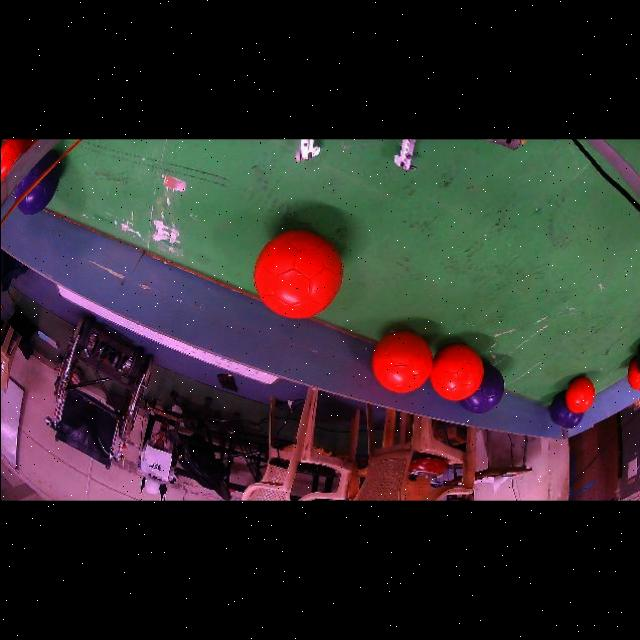P: (13, 149, 59, 213), (458, 361, 503, 412), (549, 390, 583, 428)
R: (253, 229, 341, 317), (371, 330, 432, 391), (429, 342, 482, 399), (565, 375, 594, 412), (627, 356, 640, 389)
